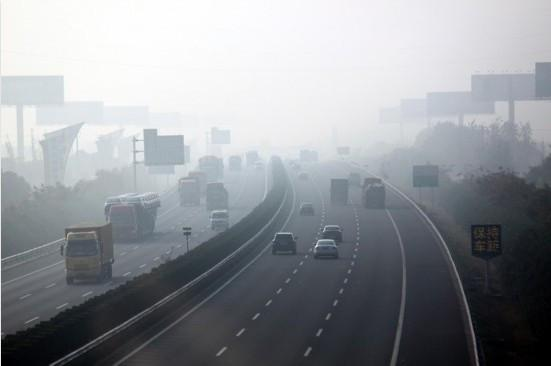bus: (60, 223, 115, 285), (104, 192, 161, 240), (359, 177, 386, 207), (178, 177, 202, 206), (206, 182, 229, 210), (198, 156, 219, 182), (330, 178, 349, 205), (188, 171, 208, 193), (209, 157, 225, 179), (228, 155, 242, 171), (245, 150, 259, 166)
car: (271, 232, 298, 255), (312, 238, 340, 259), (208, 209, 230, 230), (320, 224, 344, 243), (298, 202, 315, 216), (254, 160, 265, 170)
